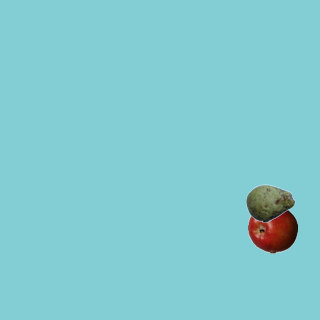Apple Braeburn: (247, 203, 297, 253)
Pear Stone: (245, 178, 295, 228)
